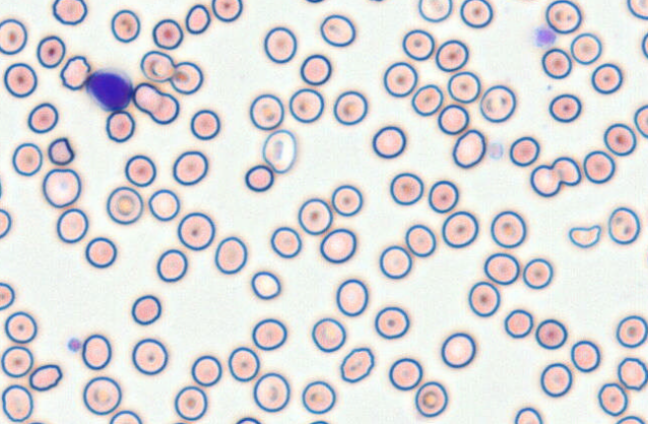LYM: (85, 66, 134, 113)
PLT: (534, 27, 555, 47), (67, 338, 82, 352)
RBC: (42, 167, 81, 208), (82, 376, 121, 415), (176, 211, 215, 250), (252, 372, 290, 412), (262, 129, 296, 173), (106, 186, 143, 224), (441, 210, 478, 248), (131, 337, 168, 375), (479, 84, 516, 122), (451, 128, 486, 168), (490, 210, 526, 248), (319, 227, 356, 263), (297, 197, 332, 235), (288, 87, 324, 123), (339, 346, 374, 383), (440, 331, 475, 368), (249, 93, 284, 130), (214, 235, 247, 274), (172, 150, 208, 185), (545, 0, 582, 34), (414, 380, 448, 417), (263, 26, 297, 63), (335, 278, 368, 316), (607, 206, 640, 244), (311, 317, 346, 352), (3, 62, 37, 98), (383, 61, 417, 97), (173, 385, 207, 421), (319, 13, 355, 47), (467, 280, 500, 317), (1, 384, 33, 422), (301, 380, 336, 414), (374, 305, 409, 339), (333, 90, 367, 125), (227, 346, 260, 382), (251, 317, 287, 350), (483, 252, 519, 285), (379, 244, 412, 279), (371, 125, 406, 158), (388, 357, 422, 390), (389, 172, 423, 205), (169, 61, 203, 94), (603, 122, 636, 156), (59, 55, 91, 90), (540, 362, 572, 397), (140, 50, 175, 82), (56, 208, 88, 243), (81, 333, 111, 370), (4, 310, 37, 343), (435, 39, 468, 72), (404, 223, 436, 257), (583, 150, 615, 184), (615, 314, 647, 348), (529, 164, 561, 197), (0, 345, 33, 377), (148, 188, 180, 221), (411, 83, 443, 116), (124, 154, 156, 187), (447, 71, 480, 103), (401, 28, 434, 60), (156, 248, 187, 282), (11, 142, 42, 176), (597, 382, 628, 416), (427, 179, 458, 213), (85, 236, 117, 268), (270, 226, 302, 258), (437, 103, 469, 135), (590, 62, 622, 94), (570, 32, 602, 64), (299, 53, 331, 85), (617, 356, 647, 390), (110, 9, 140, 43), (0, 18, 27, 55), (522, 257, 553, 289), (191, 354, 222, 386), (541, 47, 572, 79), (535, 318, 567, 349), (331, 184, 362, 216), (151, 18, 183, 49), (105, 109, 135, 142), (570, 339, 600, 372), (27, 102, 58, 133), (149, 92, 179, 124), (190, 108, 220, 140), (36, 35, 65, 68), (548, 93, 581, 122), (459, 0, 493, 28), (132, 82, 162, 113), (509, 135, 539, 166), (250, 270, 281, 300), (131, 294, 161, 325), (29, 363, 62, 391), (551, 156, 581, 186), (51, 0, 87, 25), (503, 308, 533, 338), (244, 164, 274, 192), (184, 3, 210, 34), (417, 0, 452, 22), (211, 0, 242, 22), (513, 406, 542, 423), (633, 104, 647, 138), (109, 409, 142, 423), (626, 0, 648, 20), (0, 281, 15, 310), (0, 208, 11, 238), (615, 415, 645, 423), (235, 416, 261, 423), (641, 31, 647, 59), (643, 246, 648, 269), (169, 420, 196, 424), (306, 419, 330, 423), (23, 420, 46, 424), (0, 173, 3, 200), (302, 0, 326, 3), (365, 0, 391, 2)
Schistocyte: (569, 224, 602, 249), (46, 137, 74, 165)
